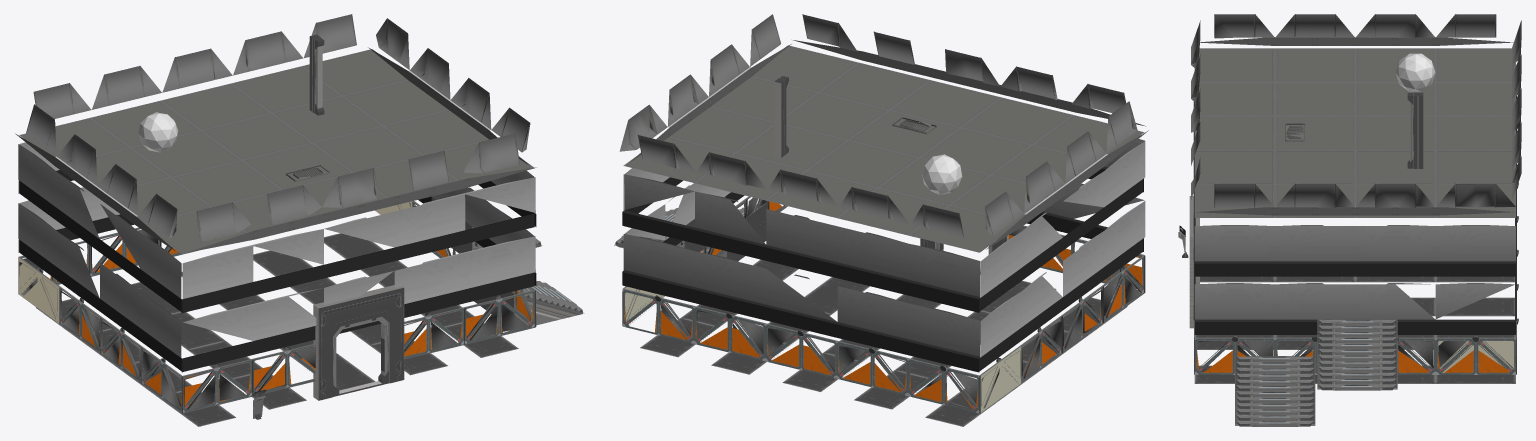
File: sc-techlab-lod1.glb
3 renders of one model, left to right at view 1: azimuth 30°, elevation 25°; view 2: azimuth 150°, elevation 25°; view 3: azimuth 270°, elevation 25°, orthographic. The views are drawn at different scales.
Visible parts, largest first — view 1: sc-techlab; view 2: sc-techlab; view 3: sc-techlab.
Boxes of the visible parts, bbox=[...] form: sc-techlab: bbox=[15, 14, 584, 426]; sc-techlab: bbox=[614, 14, 1148, 426]; sc-techlab: bbox=[1178, 14, 1521, 426].
Bounding box in the file's own units: 24.33 × 13.6 × 17.1.
Materials: 8 (6 with a texture image).
